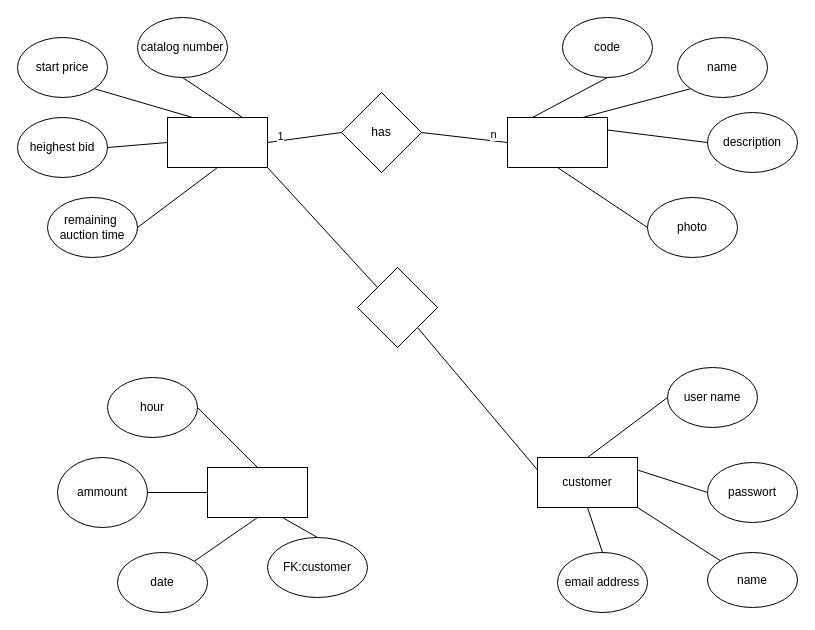
This 815x630 diagram has some shape labels left out. The shapes that lost their labels are listed below. From the top down, each one's centre as x and y in pixels, then its label:
the point at 217,142: Set
the point at 557,142: Products
the point at 397,307: bid
the point at 257,492: Person
